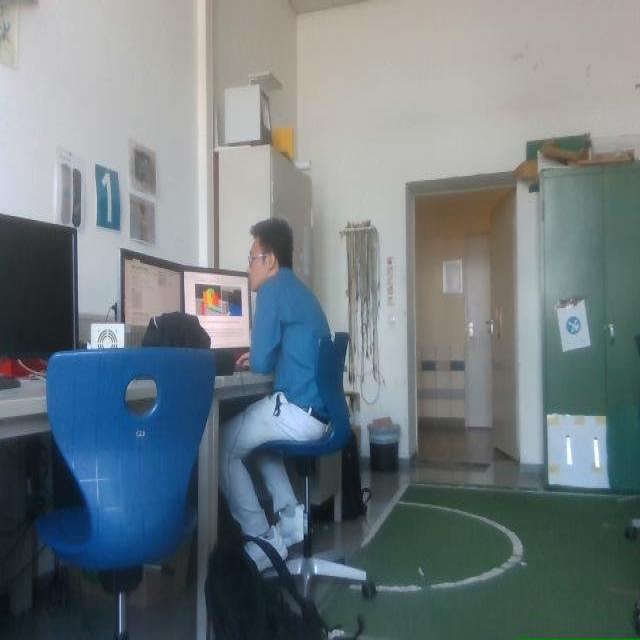humans: (220, 219, 330, 557)
objects: (36, 348, 215, 639), (260, 332, 374, 598), (205, 495, 374, 639), (205, 494, 329, 639), (205, 536, 326, 639), (341, 431, 370, 521), (142, 312, 210, 349), (342, 431, 370, 519), (142, 312, 210, 347), (214, 350, 234, 375), (634, 600, 639, 633)
